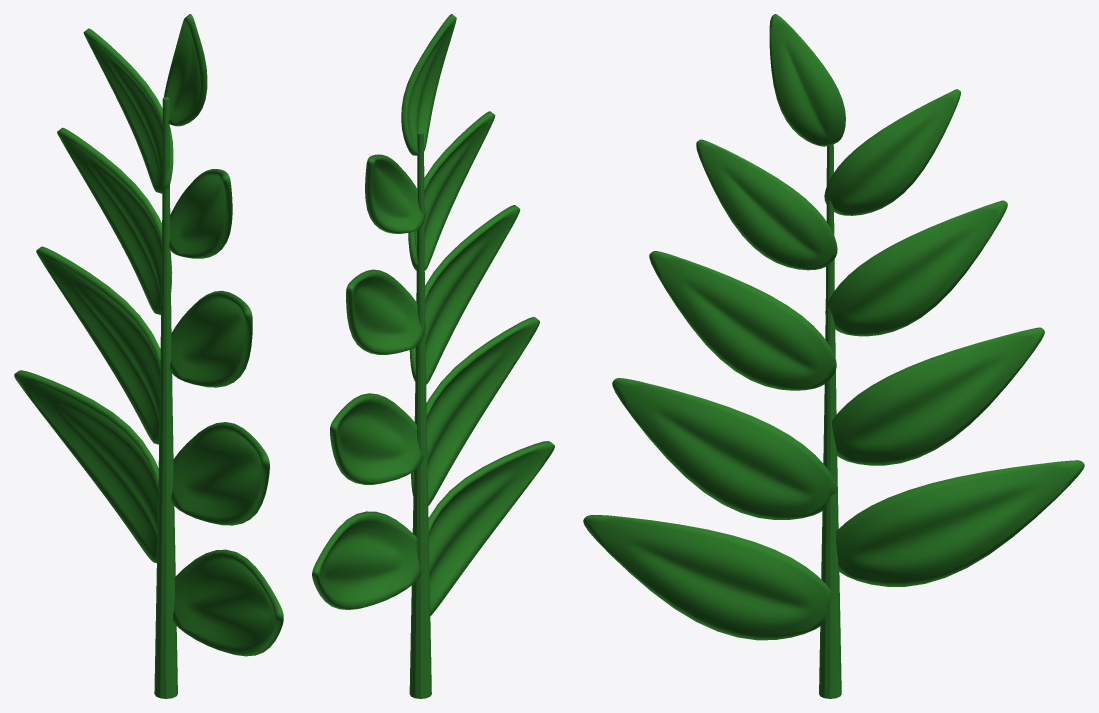
Rendered from Basic Plant (1).fbx.
3 views of the same model, side by side, from view 1: azimuth 30°, elevation 25°; view 2: azimuth 150°, elevation 25°; view 3: azimuth 270°, elevation 25° (orthographic). The views are drawn at different scales.
Parts seen in each view (by area): view 1: BasicPlant; view 2: BasicPlant; view 3: BasicPlant.
Part boxes in pixels (<box>): BasicPlant: <box>14,14,283,698</box>; BasicPlant: <box>312,14,554,698</box>; BasicPlant: <box>583,14,1084,698</box>.
Bounding box in the file's own units: 158 × 18.93 × 235.
